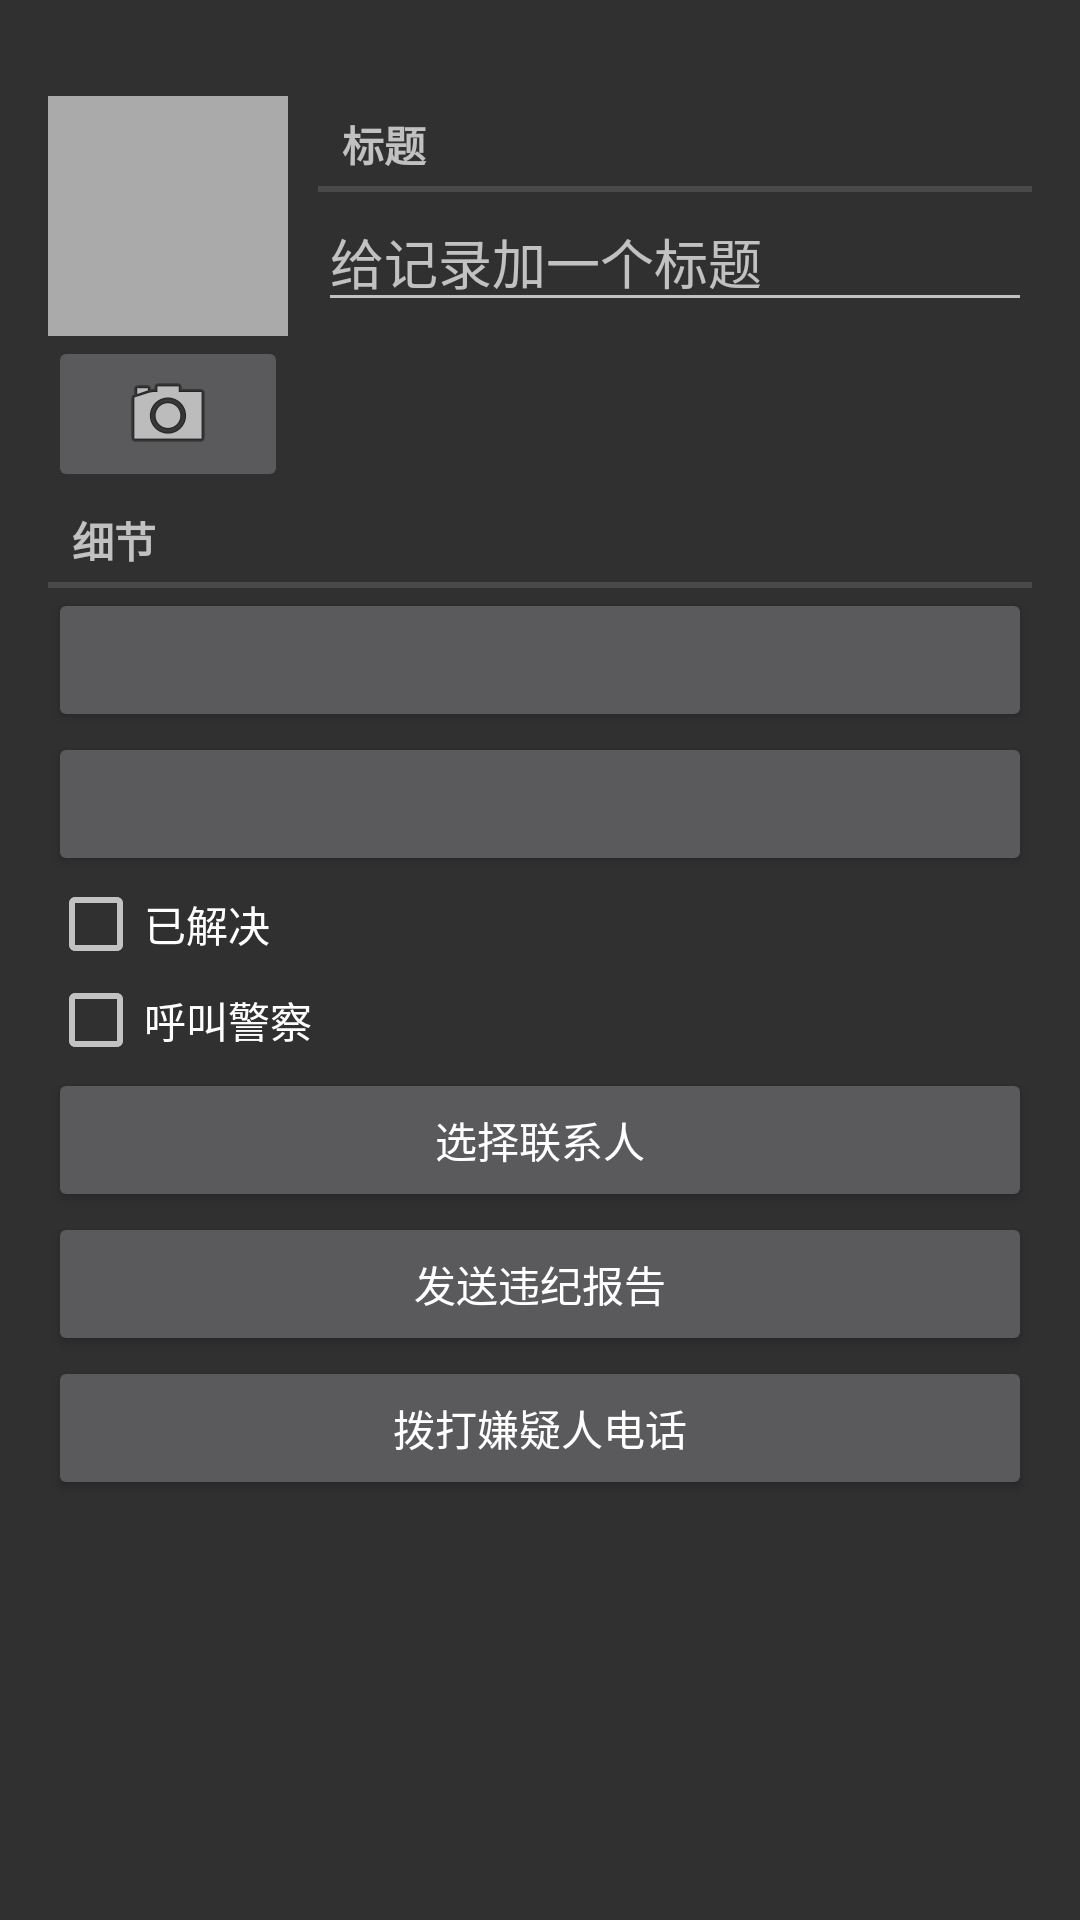

Screen size 1080px x 1920px. Icon name, then its box in pixels as (x1, y1, x2, y2):
camera: (60, 354, 276, 474)
